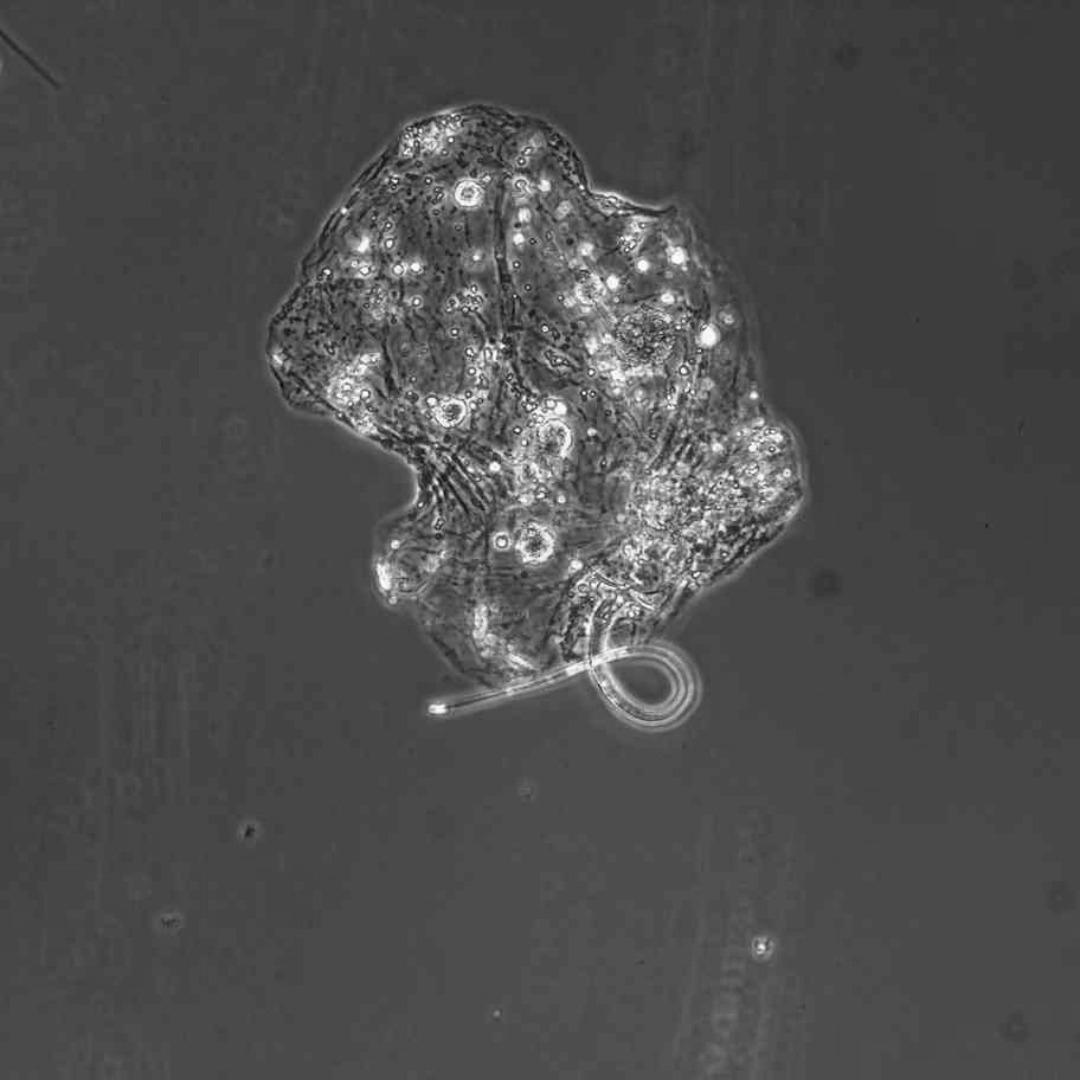noctilluca_scintillans: (266, 95, 812, 686)
